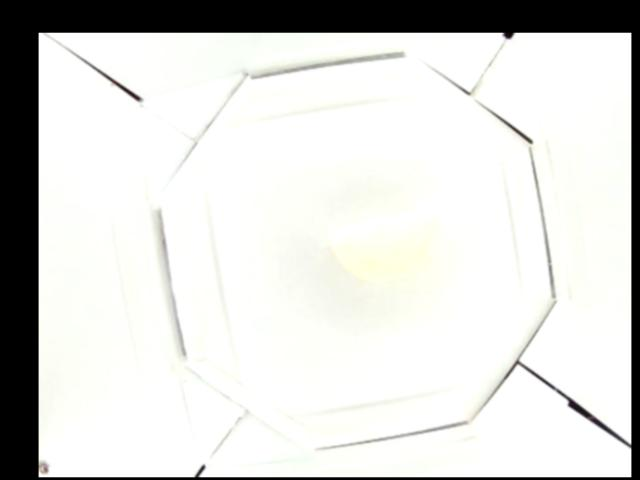Mooli: (330, 206, 440, 282)
